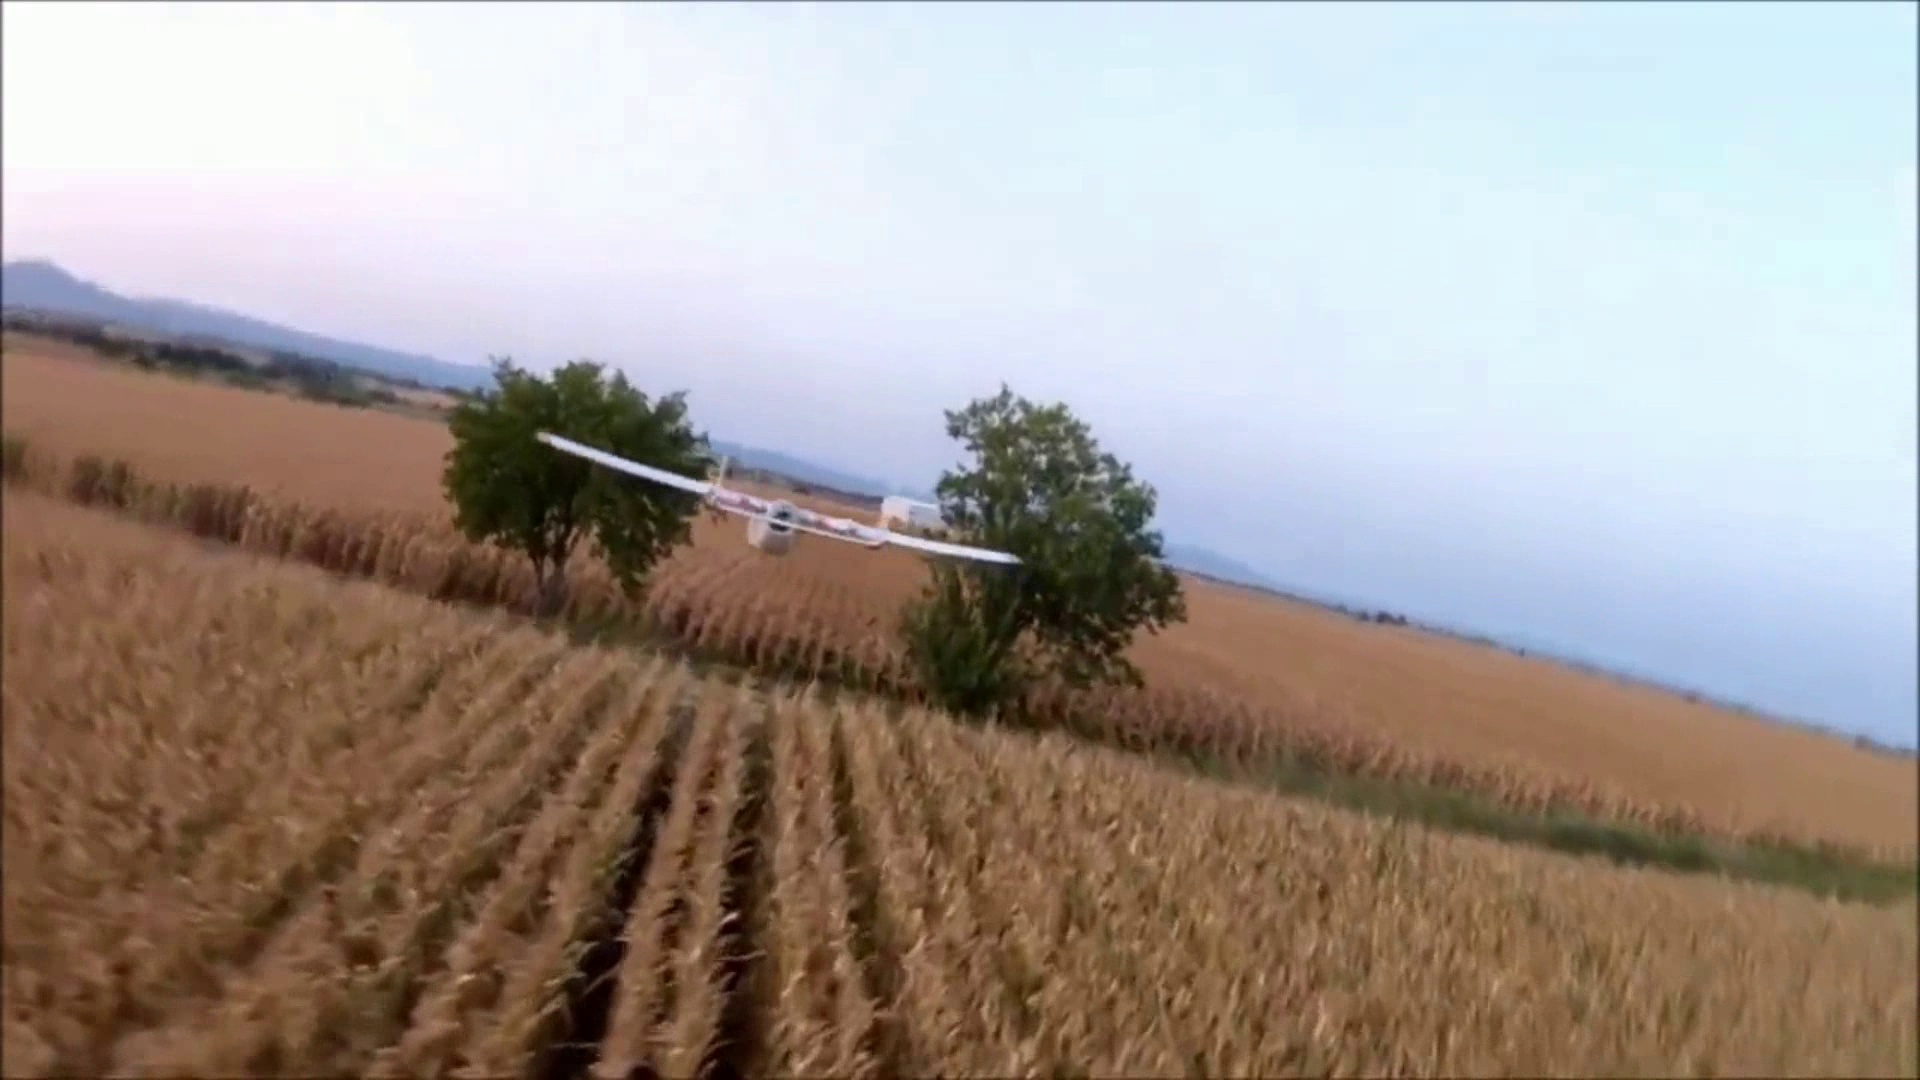airplane: (535, 431, 1025, 580)
